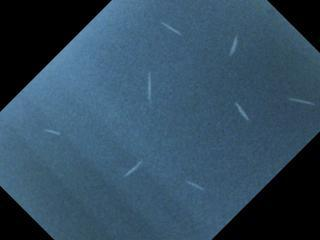scratch: (156, 16, 185, 40), (229, 97, 251, 124), (122, 156, 146, 178), (228, 31, 243, 61), (285, 96, 318, 107), (39, 126, 69, 138), (145, 69, 155, 104), (185, 179, 205, 191)
